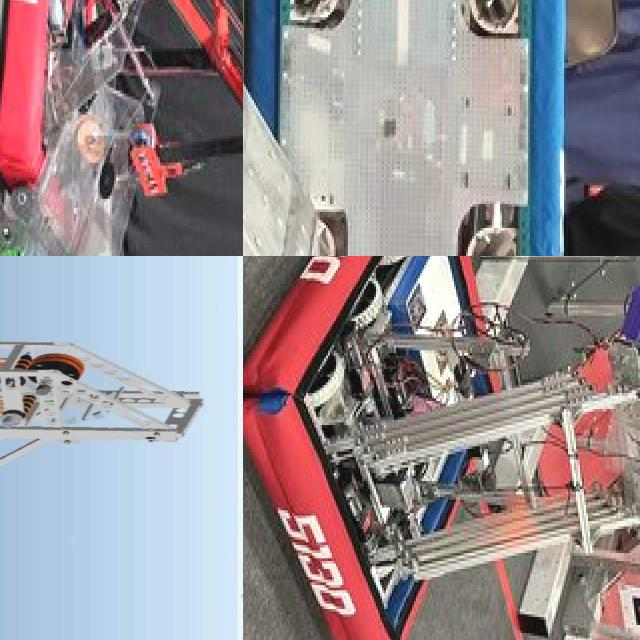FRC-Robots: (243, 256, 640, 640), (243, 0, 601, 256), (0, 262, 243, 609), (0, 0, 243, 256)
